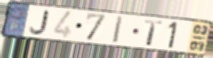1: (166, 21, 179, 49)
4: (52, 10, 74, 41)
7: (85, 12, 108, 42)
I: (111, 15, 124, 45)
J: (29, 10, 50, 36)
T: (143, 19, 165, 47)
